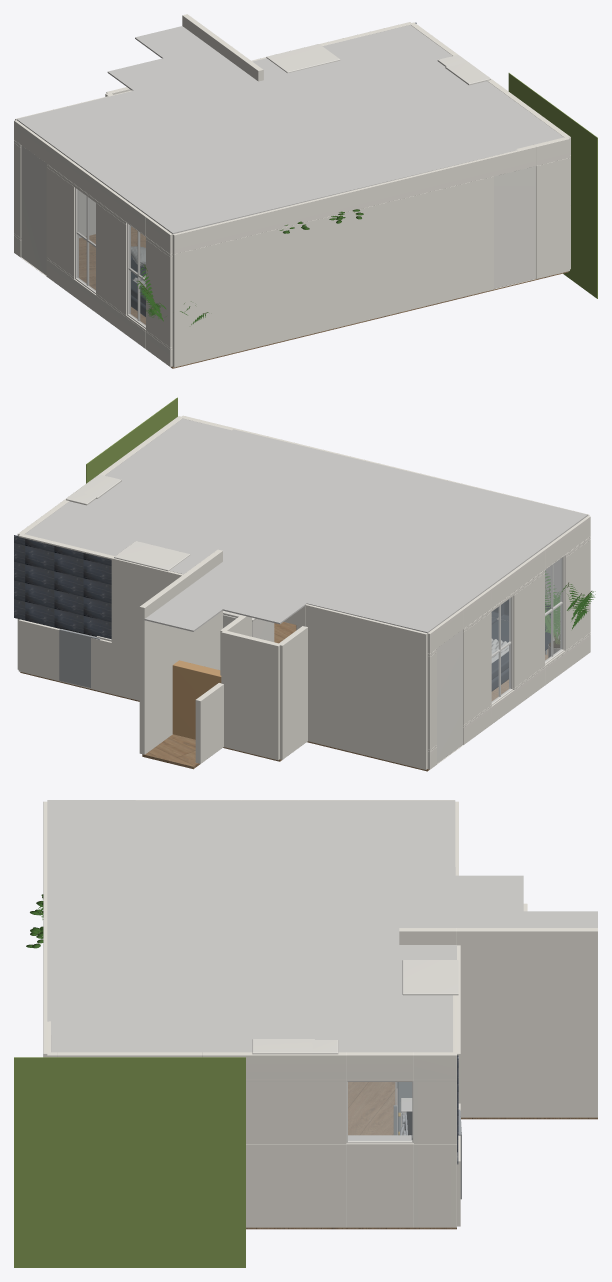
3 renders of one model, top to bottom at view 1: azimuth 30°, elevation 25°; view 2: azimuth 150°, elevation 25°; view 3: azimuth 270°, elevation 25°, orthographic. The views are drawn at different scales.
Visible parts, largest first — view 1: source-measured-main-ceiling, wall_8_segment.006, wall_8_segment.007, inferred_outdoor_brightness, door_panel.002, wall_8_segment.001, door_panel, wall_0_segment.015, wall_0_segment.027, wall_0_segment.003, glass.001, measured_floor_polygon (+16 smaller); view 2: source-measured-main-ceiling, wall_11_segment, wall_1_segment, source black tile backsplash, extent pattern candidate, wall_4_segment, wall_3_segment, wall_9_segment, wall_0_segment.015, door_panel, wall_0_segment.027, home-downstairs__stairs_01__step.006, wall_0_segment.003 (+18 smaller); view 3: source-measured-main-ceiling, inferred_outdoor_brightness, wall_3_segment, wall_7_segment.007, wall_7_segment.008, wall_7_segment.004, glass.002, wall_7_segment, measured_floor_polygon, wall_7_segment.010, wall_7_segment.001, home-downstairs__storage_17__countertop (+7 smaller).
Part boxes in pixels (x1,y1,x2,y2): source-measured-main-ceiling: (16, 25, 563, 233); wall_8_segment.006: (172, 176, 493, 367); wall_8_segment.007: (172, 156, 493, 254); inferred_outdoor_brightness: (508, 73, 597, 298); door_panel.002: (494, 166, 535, 288); wall_8_segment.001: (536, 158, 569, 278); door_panel: (21, 145, 46, 275); wall_0_segment.015: (96, 203, 130, 315); wall_0_segment.027: (46, 167, 78, 277); wall_0_segment.003: (146, 240, 172, 347); glass.001: (77, 189, 95, 291); measured_floor_polygon: (79, 226, 568, 368); source-measured-main-ceiling: (25, 418, 587, 633); wall_11_segment: (296, 604, 427, 769); wall_1_segment: (18, 534, 183, 700); source black tile backsplash, extent pattern candidate: (14, 535, 111, 639); wall_4_segment: (221, 630, 280, 760); wall_3_segment: (139, 566, 200, 754); wall_9_segment: (279, 626, 307, 759); wall_0_segment.015: (509, 573, 544, 687); door_panel: (437, 630, 462, 763); wall_0_segment.027: (463, 612, 491, 724); home-downstairs__stairs_01__step.006: (172, 660, 221, 739); wall_0_segment.003: (560, 539, 590, 650); source-measured-main-ceiling: (47, 800, 597, 1052); inferred_outdoor_brightness: (14, 1057, 245, 1267); wall_3_segment: (457, 928, 597, 1117); wall_7_segment.007: (246, 1144, 346, 1227); wall_7_segment.008: (246, 1081, 346, 1143); wall_7_segment.004: (346, 1143, 413, 1227); glass.002: (348, 1082, 411, 1140); wall_7_segment: (414, 1144, 456, 1227); measured_floor_polygon: (246, 1082, 597, 1229); wall_7_segment.010: (202, 1052, 346, 1079); wall_7_segment.001: (414, 1081, 456, 1143); home-downstairs__storage_17__countertop: (402, 960, 458, 995).
Size of the model in its own units: 8.43 by 3.11 by 7.55.
57 materials, 2 textured.
